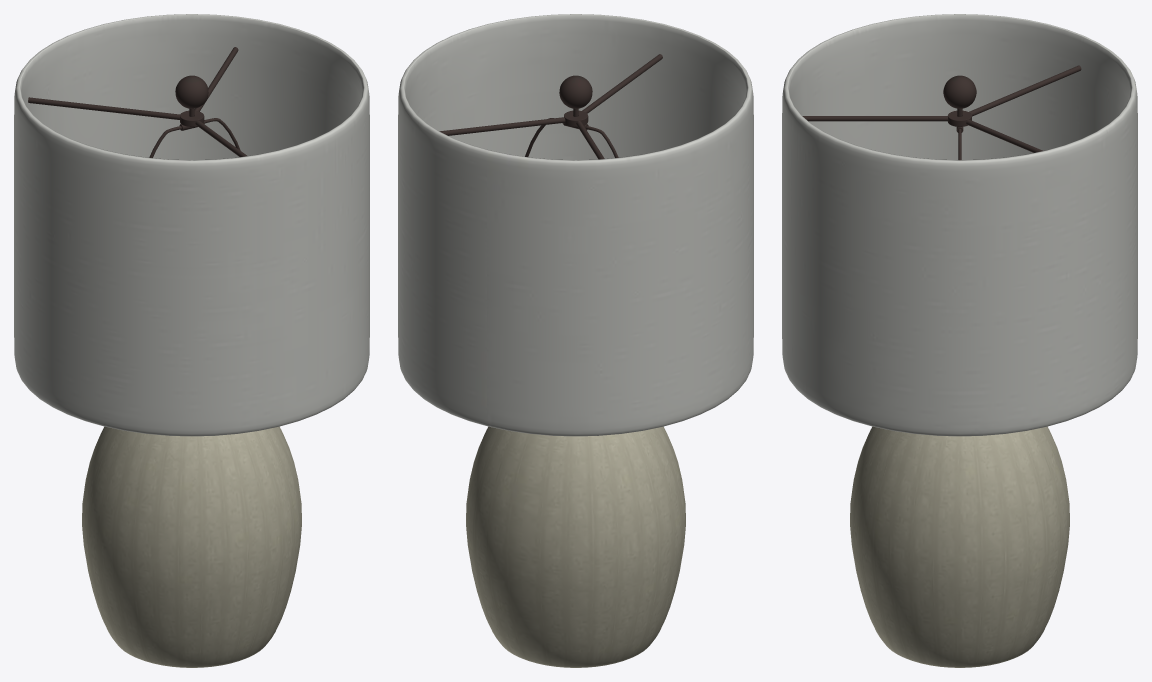
File: B0824FHWSX.glb
3 views of the same model, side by side, from view 1: azimuth 30°, elevation 25°; view 2: azimuth 150°, elevation 25°; view 3: azimuth 270°, elevation 25° (orthographic).
Visible parts, largest first — view 1: RootNode; view 2: RootNode; view 3: RootNode.
Boxes of the visible parts, x1,y1,x2,y2 form: RootNode: [14, 14, 369, 667]; RootNode: [398, 14, 753, 667]; RootNode: [782, 14, 1137, 667].
Size of the model in its own units: 0.3289 by 0.5703 by 0.3289.
1 material, 1 textured.
